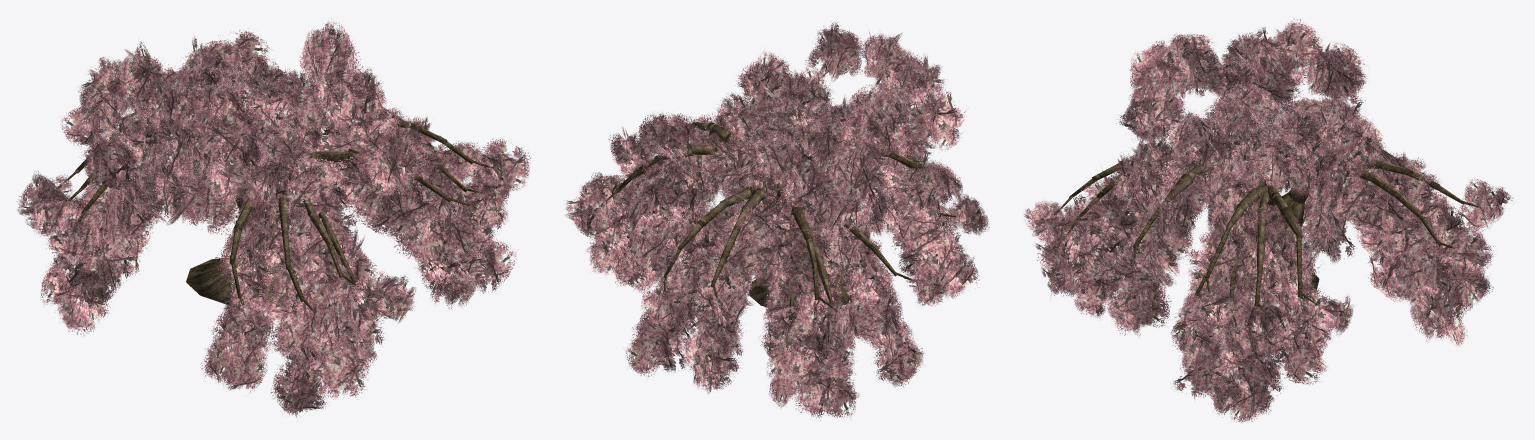
File: blossom_2.glb
3 views of the same model, side by side, from view 1: azimuth 30°, elevation 25°; view 2: azimuth 150°, elevation 25°; view 3: azimuth 270°, elevation 25° (orthographic). The views are drawn at different scales.
Parts seen in each view (by area): view 1: blossom; view 2: blossom; view 3: blossom.
Part boxes in pixels (x1,y1,x2,y2): blossom: (17, 18, 530, 417); blossom: (564, 22, 989, 420); blossom: (1024, 18, 1513, 422).
Size of the model in its own units: 25.31 by 17.85 by 28.13.
2 materials, 2 textured.
